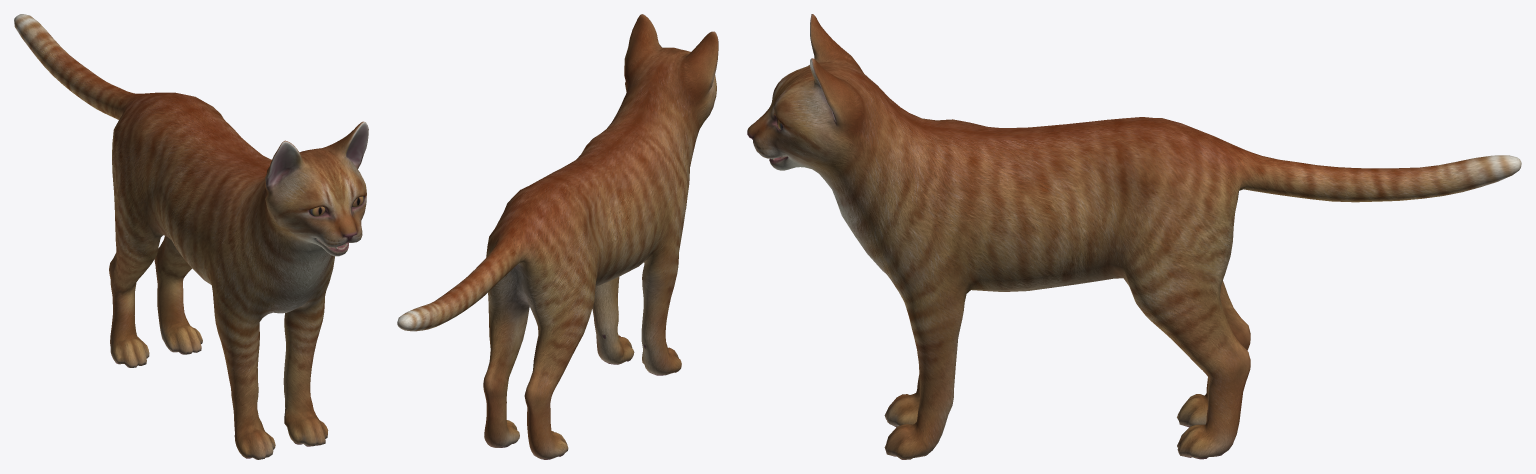
File: Cat.fbx
3 renders of one model, left to right at view 1: azimuth 30°, elevation 25°; view 2: azimuth 150°, elevation 25°; view 3: azimuth 270°, elevation 25°, orthographic. The views are drawn at different scales.
Parts seen in each view (by area): view 1: Cat; view 2: Cat; view 3: Cat.
Part boxes in pixels (<box>): Cat: <box>14,14,368,459</box>; Cat: <box>397,14,718,459</box>; Cat: <box>747,14,1521,459</box>.
Size of the model in its own units: 0.1408 by 0.4471 by 0.778.
Materials: 1 (1 with a texture image).
